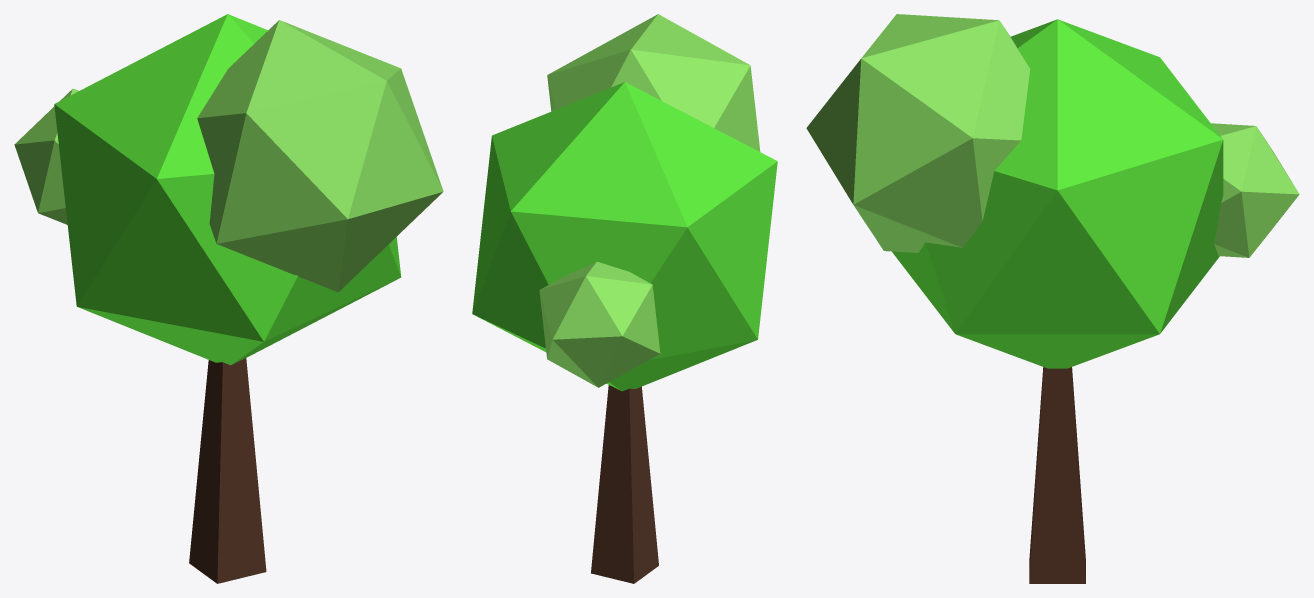
File: Georgebush_1.fbx
3 views of the same model, side by side, from view 1: azimuth 30°, elevation 25°; view 2: azimuth 150°, elevation 25°; view 3: azimuth 270°, elevation 25° (orthographic). The views are drawn at different scales.
Parts seen in each view (by area): view 1: Icosphere, Icosphere.001, Cube, Icosphere.002; view 2: Icosphere, Icosphere.001, Icosphere.002, Cube; view 3: Icosphere, Icosphere.001, Cube, Icosphere.002.
Part boxes in pixels (x1,y1,x2,y2): Icosphere: [54, 14, 401, 365]; Icosphere.001: [197, 20, 443, 292]; Cube: [189, 358, 266, 583]; Icosphere.002: [14, 88, 78, 224]; Icosphere: [472, 82, 777, 391]; Icosphere.001: [547, 14, 760, 151]; Icosphere.002: [539, 261, 660, 387]; Cube: [591, 385, 658, 583]; Icosphere: [892, 19, 1223, 368]; Icosphere.001: [806, 14, 1030, 252]; Cube: [1029, 367, 1085, 583]; Icosphere.002: [1211, 123, 1299, 257].
Bounding box in the file's own units: 79.16 × 141 × 112.
